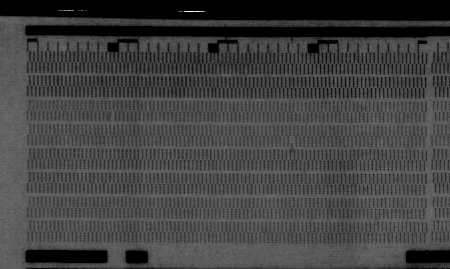Oblique printing: (286, 136, 298, 151), (106, 111, 117, 123)
